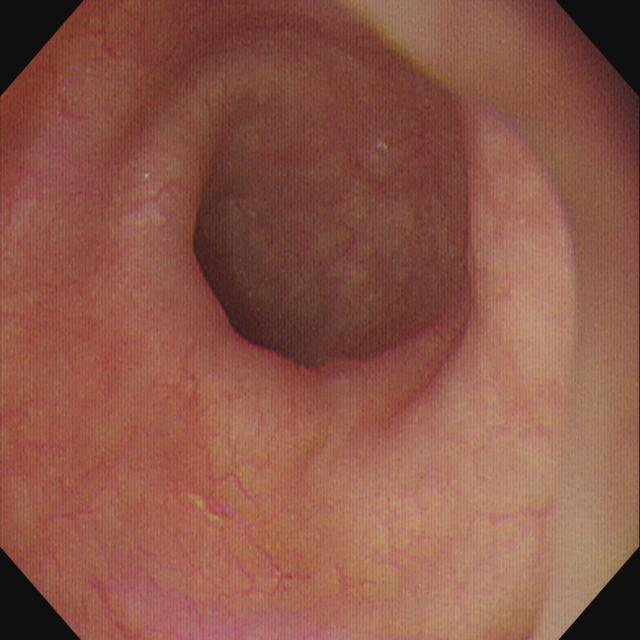E: (191, 183, 327, 367)
